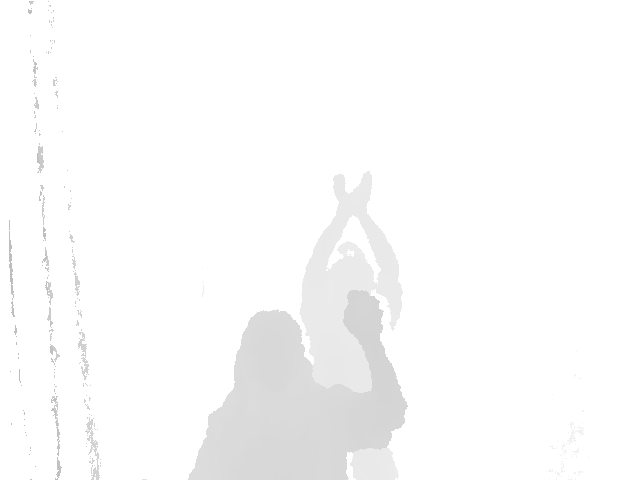hand: (342, 292, 385, 341), (351, 171, 372, 215), (333, 171, 353, 213)
head: (233, 311, 312, 386), (327, 242, 377, 294)
person: (185, 291, 411, 480), (299, 171, 404, 480)
